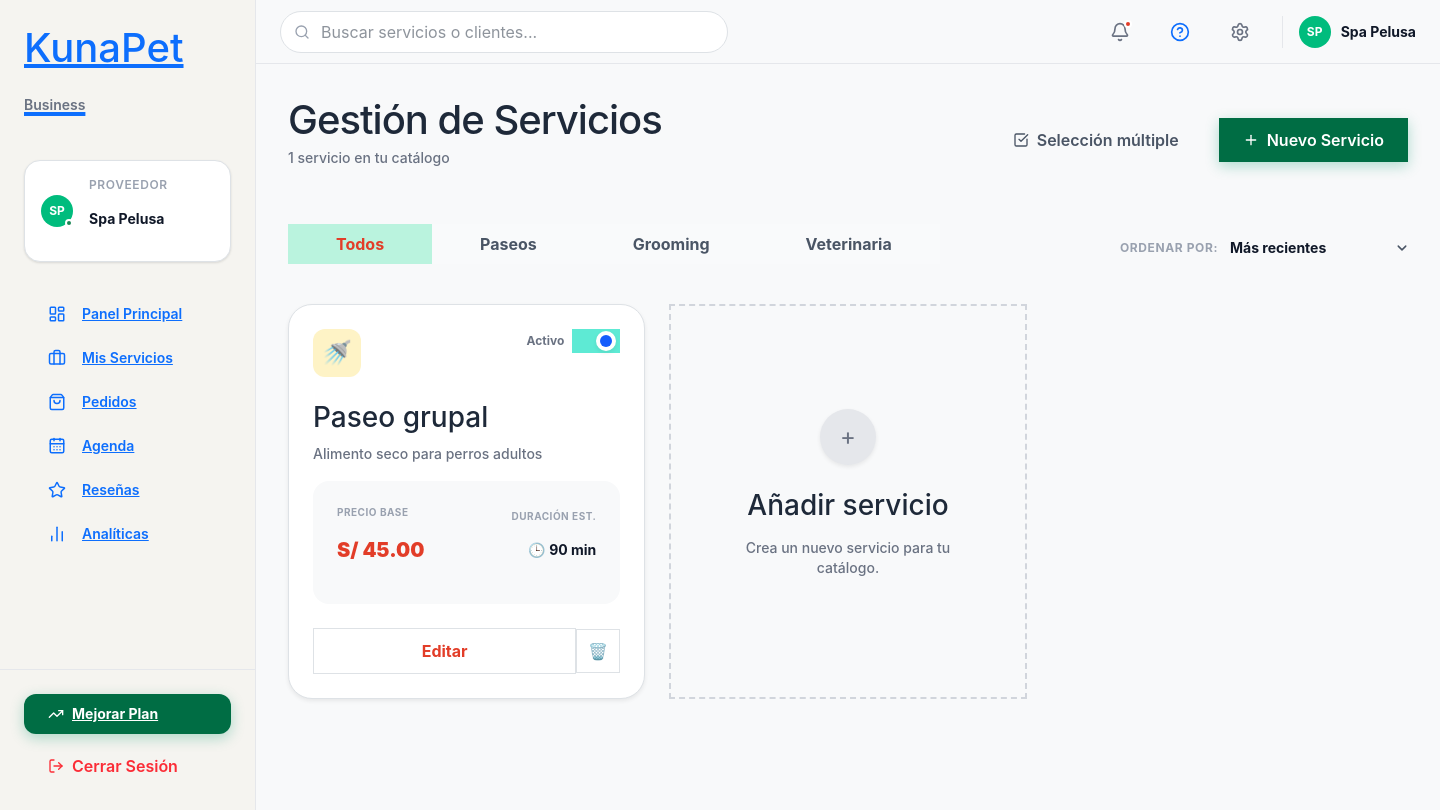
Gestión de servicios del proveedor › desactiva un servicio con el interruptor (PATCH isActive:false)
Expected: the heading "Paseo grupal" is shown, left=313, top=400, right=488, bottom=434
Click the switch named "Desactivar Paseo grupal": (596, 341) left=572, top=329, right=620, bottom=353
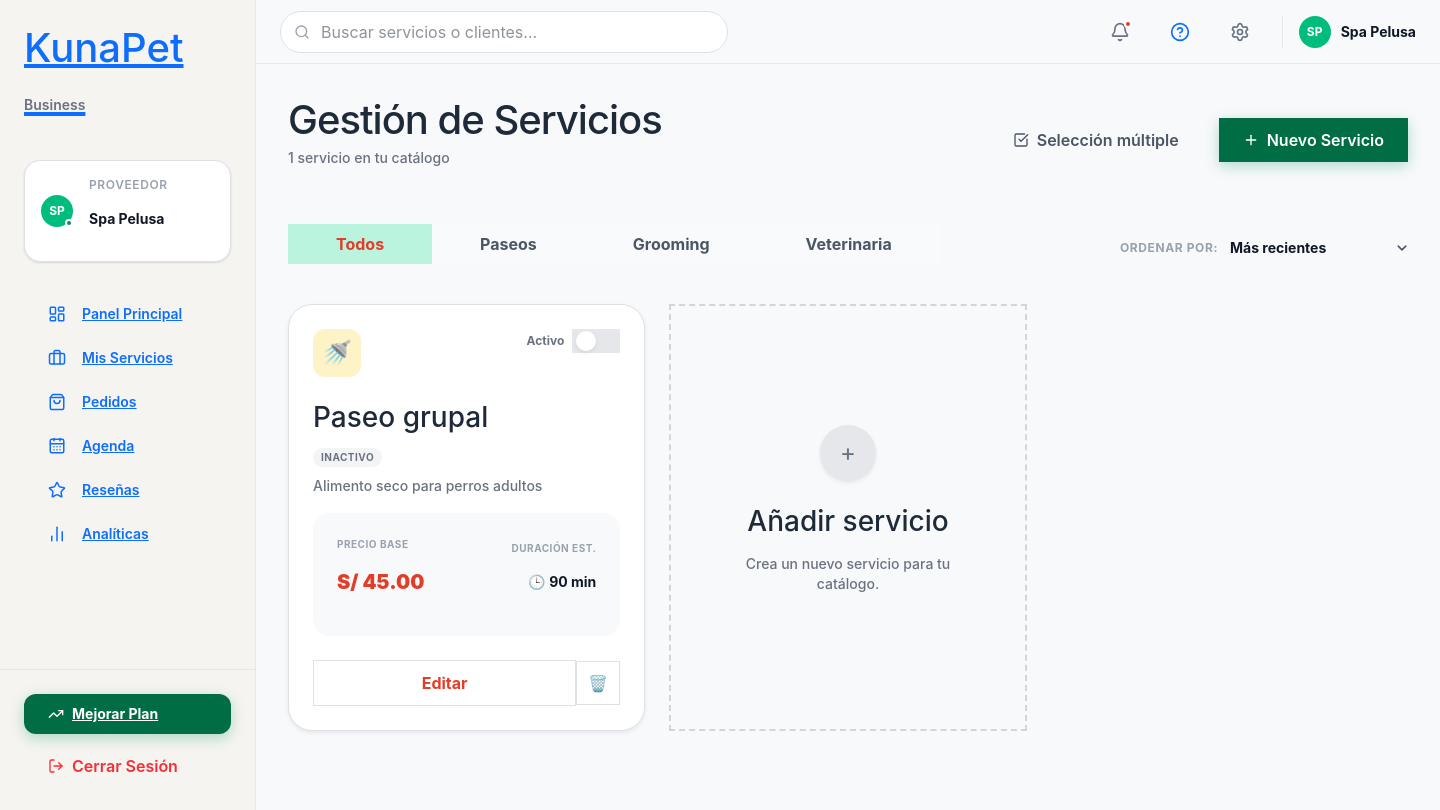
Expected: the text "Inactivo" is shown, left=313, top=448, right=382, bottom=467
